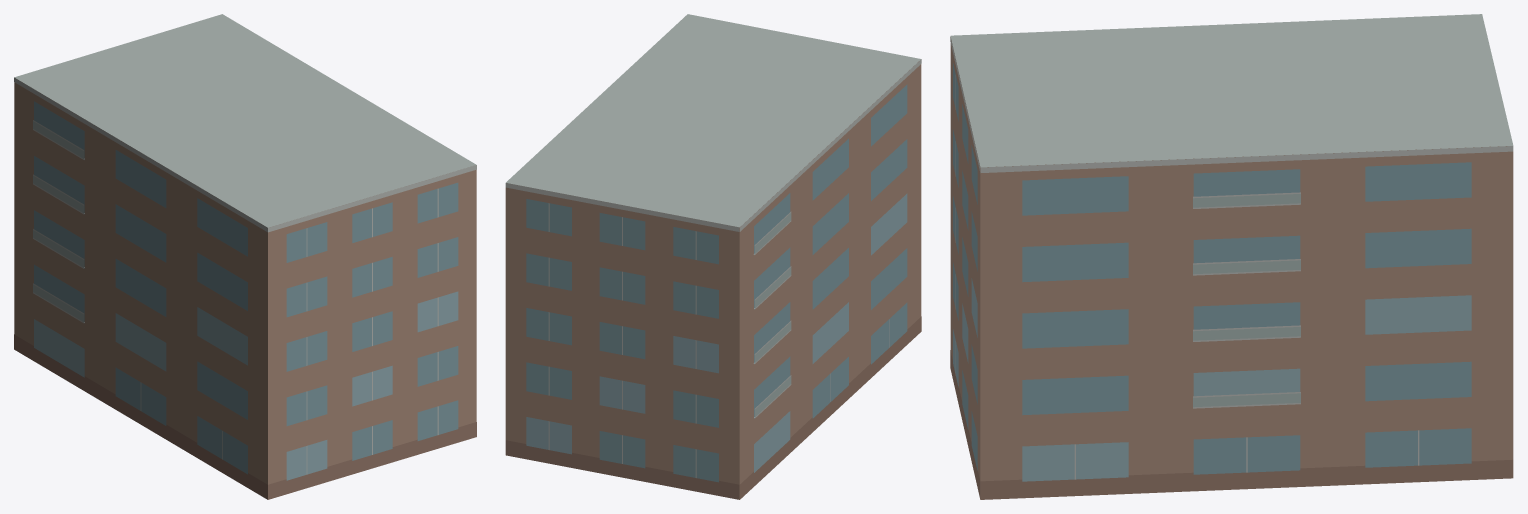
File: survey-upis-32969144.glb
3 views of the same model, side by side, from view 1: azimuth 30°, elevation 25°; view 2: azimuth 150°, elevation 25°; view 3: azimuth 270°, elevation 25° (orthographic). The views are drawn at different scales.
Parts seen in each view (by area): view 1: survey-upis-32969144.tmp; view 2: survey-upis-32969144.tmp; view 3: survey-upis-32969144.tmp.
Boxes of the visible parts, bbox=[...] form: survey-upis-32969144.tmp: bbox=[14, 14, 476, 499]; survey-upis-32969144.tmp: bbox=[505, 14, 921, 499]; survey-upis-32969144.tmp: bbox=[950, 14, 1513, 499].
Size of the model in its own units: 13.93 by 14.07 by 21.6.
